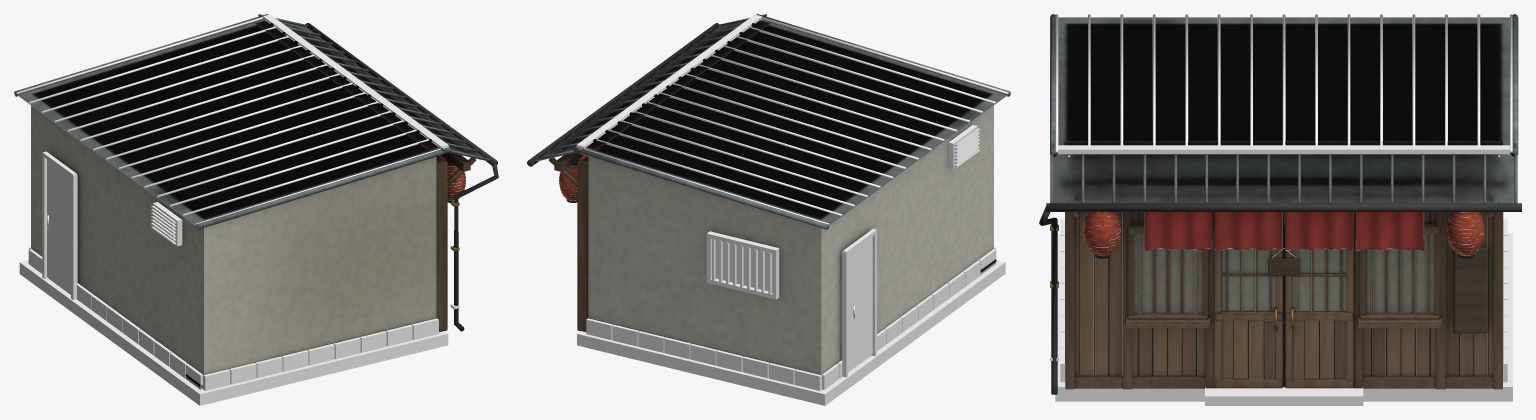
File: lmd.glb
3 renders of one model, left to right at view 1: azimuth 30°, elevation 25°; view 2: azimuth 150°, elevation 25°; view 3: azimuth 270°, elevation 25°, orthographic. The views are drawn at different scales.
Visible parts, largest first — view 1: 主屋面侧檐封边_1.001; view 2: 主屋面侧檐封边_1.001; view 3: 主屋面侧檐封边_1.001.
Part boxes in pixels (left/top/right/bottom): 主屋面侧檐封边_1.001: left=14, top=14, right=498, bottom=405; 主屋面侧檐封边_1.001: left=527, top=14, right=1010, bottom=405; 主屋面侧檐封边_1.001: left=1039, top=14, right=1521, bottom=405.
Size of the model in its own units: 3.43 by 2.2 by 3.8.
1 material, 1 textured.
